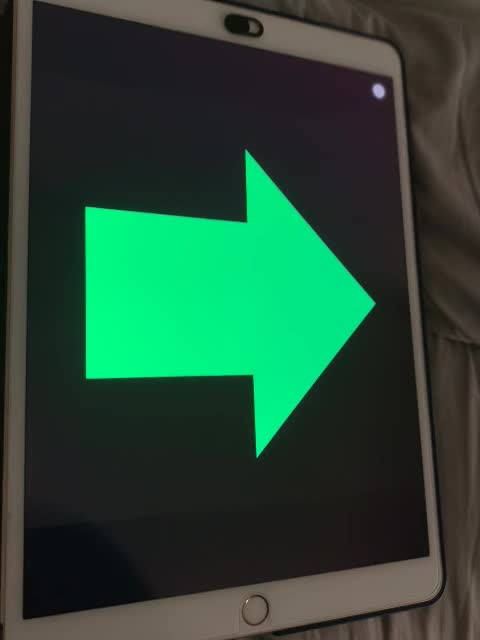right: (74, 146, 381, 462)
